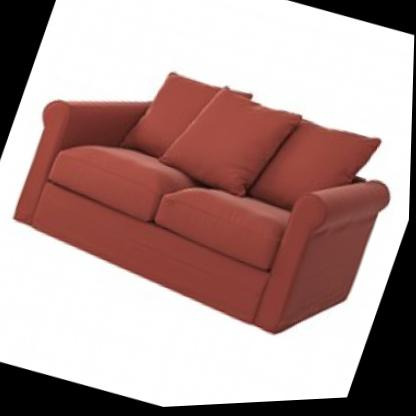Sofa: (0, 10, 415, 380)
